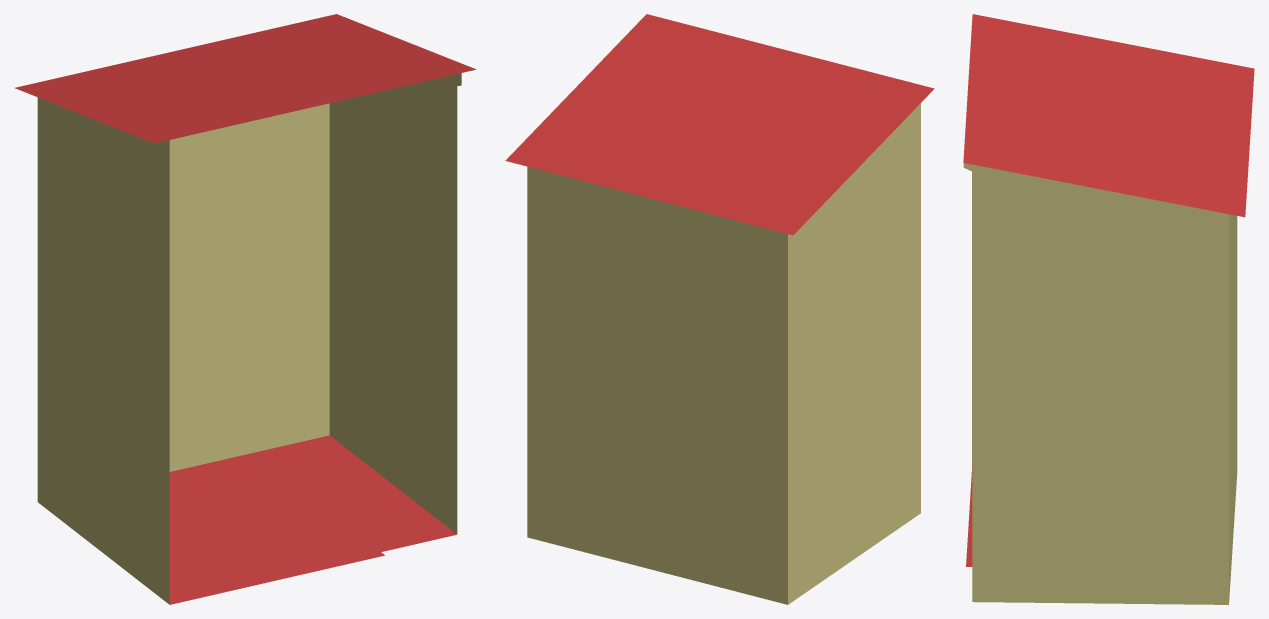
The picture shows the model from 3 angles, left to right: view 1: azimuth 30°, elevation 25°; view 2: azimuth 150°, elevation 25°; view 3: azimuth 270°, elevation 25°; orthographic projection. The views are drawn at different scales.
Size of the model in its own units: 5.37 by 4.35 by 7.35.
